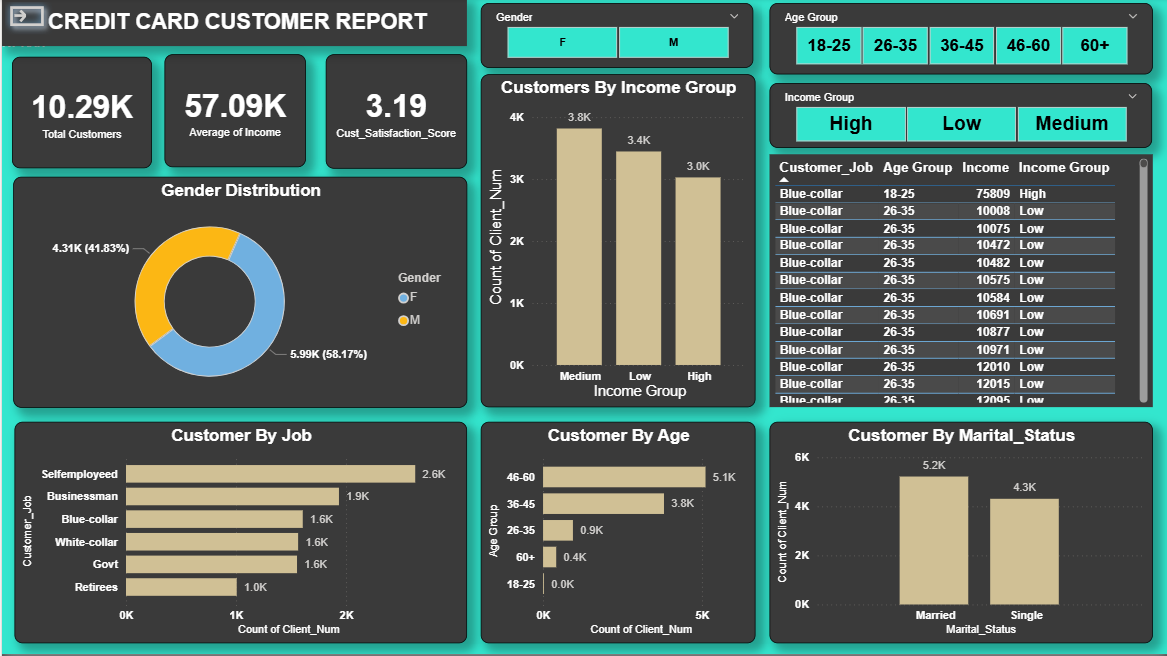

Layout of this report page (visuals, bound fields, positions):
{"tool":"powerbi","page":{"name":"customer report","canvas":[1280,720],"ordinal":0},"visuals":[{"type":"card","fields":{"Values":["CountNonNull(customer.Client_Num)"]},"box":[13.7,54.9,124.9,111.1],"z":0},{"type":"card","fields":{"Values":["Avg(customer.Income)"]},"box":[148.2,53.5,116.6,111.1],"z":1000},{"type":"card","fields":{"Values":["Avg(customer.Cust_Satisfaction_Score)"]},"box":[277.2,53.5,122.1,112.5],"z":2000},{"type":"slicer","fields":{"Values":["customer.Age Group"]},"box":[842.5,0,419.9,83.7],"z":3000},{"type":"slicer","fields":{"Values":["customer.Income Group"]},"box":[771.2,93.3,491.3,71.4],"z":4000},{"type":"pieChart","title":"Gender Distribution","fields":{"Category":["customer.Gender"],"Y":["CountNonNull(customer.Client_Num)"]},"box":[771.2,177,234.6,271.7],"z":5000},{"type":"clusteredBarChart","title":"Customer By Age","fields":{"Category":["customer.Age Group"],"Y":["CountNonNull(customer.Client_Num)"]},"box":[550.3,465.2,301.9,242.9],"z":6000},{"type":"clusteredColumnChart","title":"Customers By Income Group","fields":{"Category":["customer.Income Group"],"Y":["CountNonNull(customer.Client_Num)"]},"box":[550.3,83.7,209.9,365],"z":7000},{"type":"clusteredBarChart","title":"Customer By Job","fields":{"Category":["customer.Customer_Job"],"Y":["CountNonNull(customer.Client_Num)"]},"box":[13.7,465.2,524.2,242.9],"z":8000},{"type":"actionButton","title":"Go To Transition Report","box":[0,5.1,108.9,47.7],"z":9000},{"type":"columnChart","title":"Customer By Marital_Status","fields":{"Category":["customer.Marital_Status"],"Y":["CountNonNull(CreditCard.Client_Num)"]},"box":[861.8,465.2,400.7,242.9],"z":10000},{"type":"textbox","box":[0,0,537.9,52.1],"z":11000},{"type":"actionButton","box":[0,0,54.9,39.8],"z":12000},{"type":"cardVisual","fields":{"Data":["CreditCard.Total Revenue"]},"box":[408.9,53.5,129,111.1],"z":13000},{"type":"lineChart","title":"Revenue Trend By Gender","fields":{"Series":["customer.Gender"],"Y":["CreditCard.Total Revenue"],"Category":["CreditCard.Month Name"]},"box":[13.7,171.5,524.2,284],"z":14000},{"type":"pivotTable","fields":{"Rows":["customer.Income Group","customer.Age Group","CreditCard.Card_Category","customer.Gender"],"Values":["CreditCard.Total Customers","CreditCard.Total Revenue","CreditCard.Total Transactions","CreditCard.Avg Revenue per Customer"]},"box":[1016.8,177,256.6,271.7],"z":15000},{"type":"slicer","fields":{"Values":["customer.Gender"]},"box":[550.3,0,286.8,68.6],"z":16000}]}

Visuals, with their boxes in screenshot pixels (x1, y1, x2, y2), scaled from the page's 1280x720 canvas onto the 1167x656 screenshot:
card - CountNonNull(customer.Client_Num): box(12, 50, 126, 151)
card - Avg(customer.Income): box(135, 49, 241, 150)
card - Avg(customer.Cust_Satisfaction_Score): box(253, 49, 364, 151)
slicer - customer.Age Group: box(768, 0, 1151, 76)
slicer - customer.Income Group: box(703, 85, 1151, 150)
"Gender Distribution" pieChart: box(703, 161, 917, 409)
"Customer By Age" clusteredBarChart: box(502, 424, 777, 645)
"Customers By Income Group" clusteredColumnChart: box(502, 76, 693, 409)
"Customer By Job" clusteredBarChart: box(12, 424, 490, 645)
"Go To Transition Report" actionButton: box(0, 5, 99, 48)
"Customer By Marital_Status" columnChart: box(786, 424, 1151, 645)
textbox: box(0, 0, 490, 47)
actionButton: box(0, 0, 50, 36)
cardVisual - CreditCard.Total Revenue: box(373, 49, 490, 150)
"Revenue Trend By Gender" lineChart: box(12, 156, 490, 415)
pivotTable - customer.Income Group x customer.Age Group: box(927, 161, 1161, 409)
slicer - customer.Gender: box(502, 0, 763, 63)
